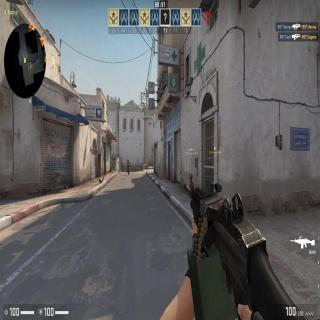CT-Body: (126, 159, 130, 175)
CT-Head: (126, 158, 130, 162)
